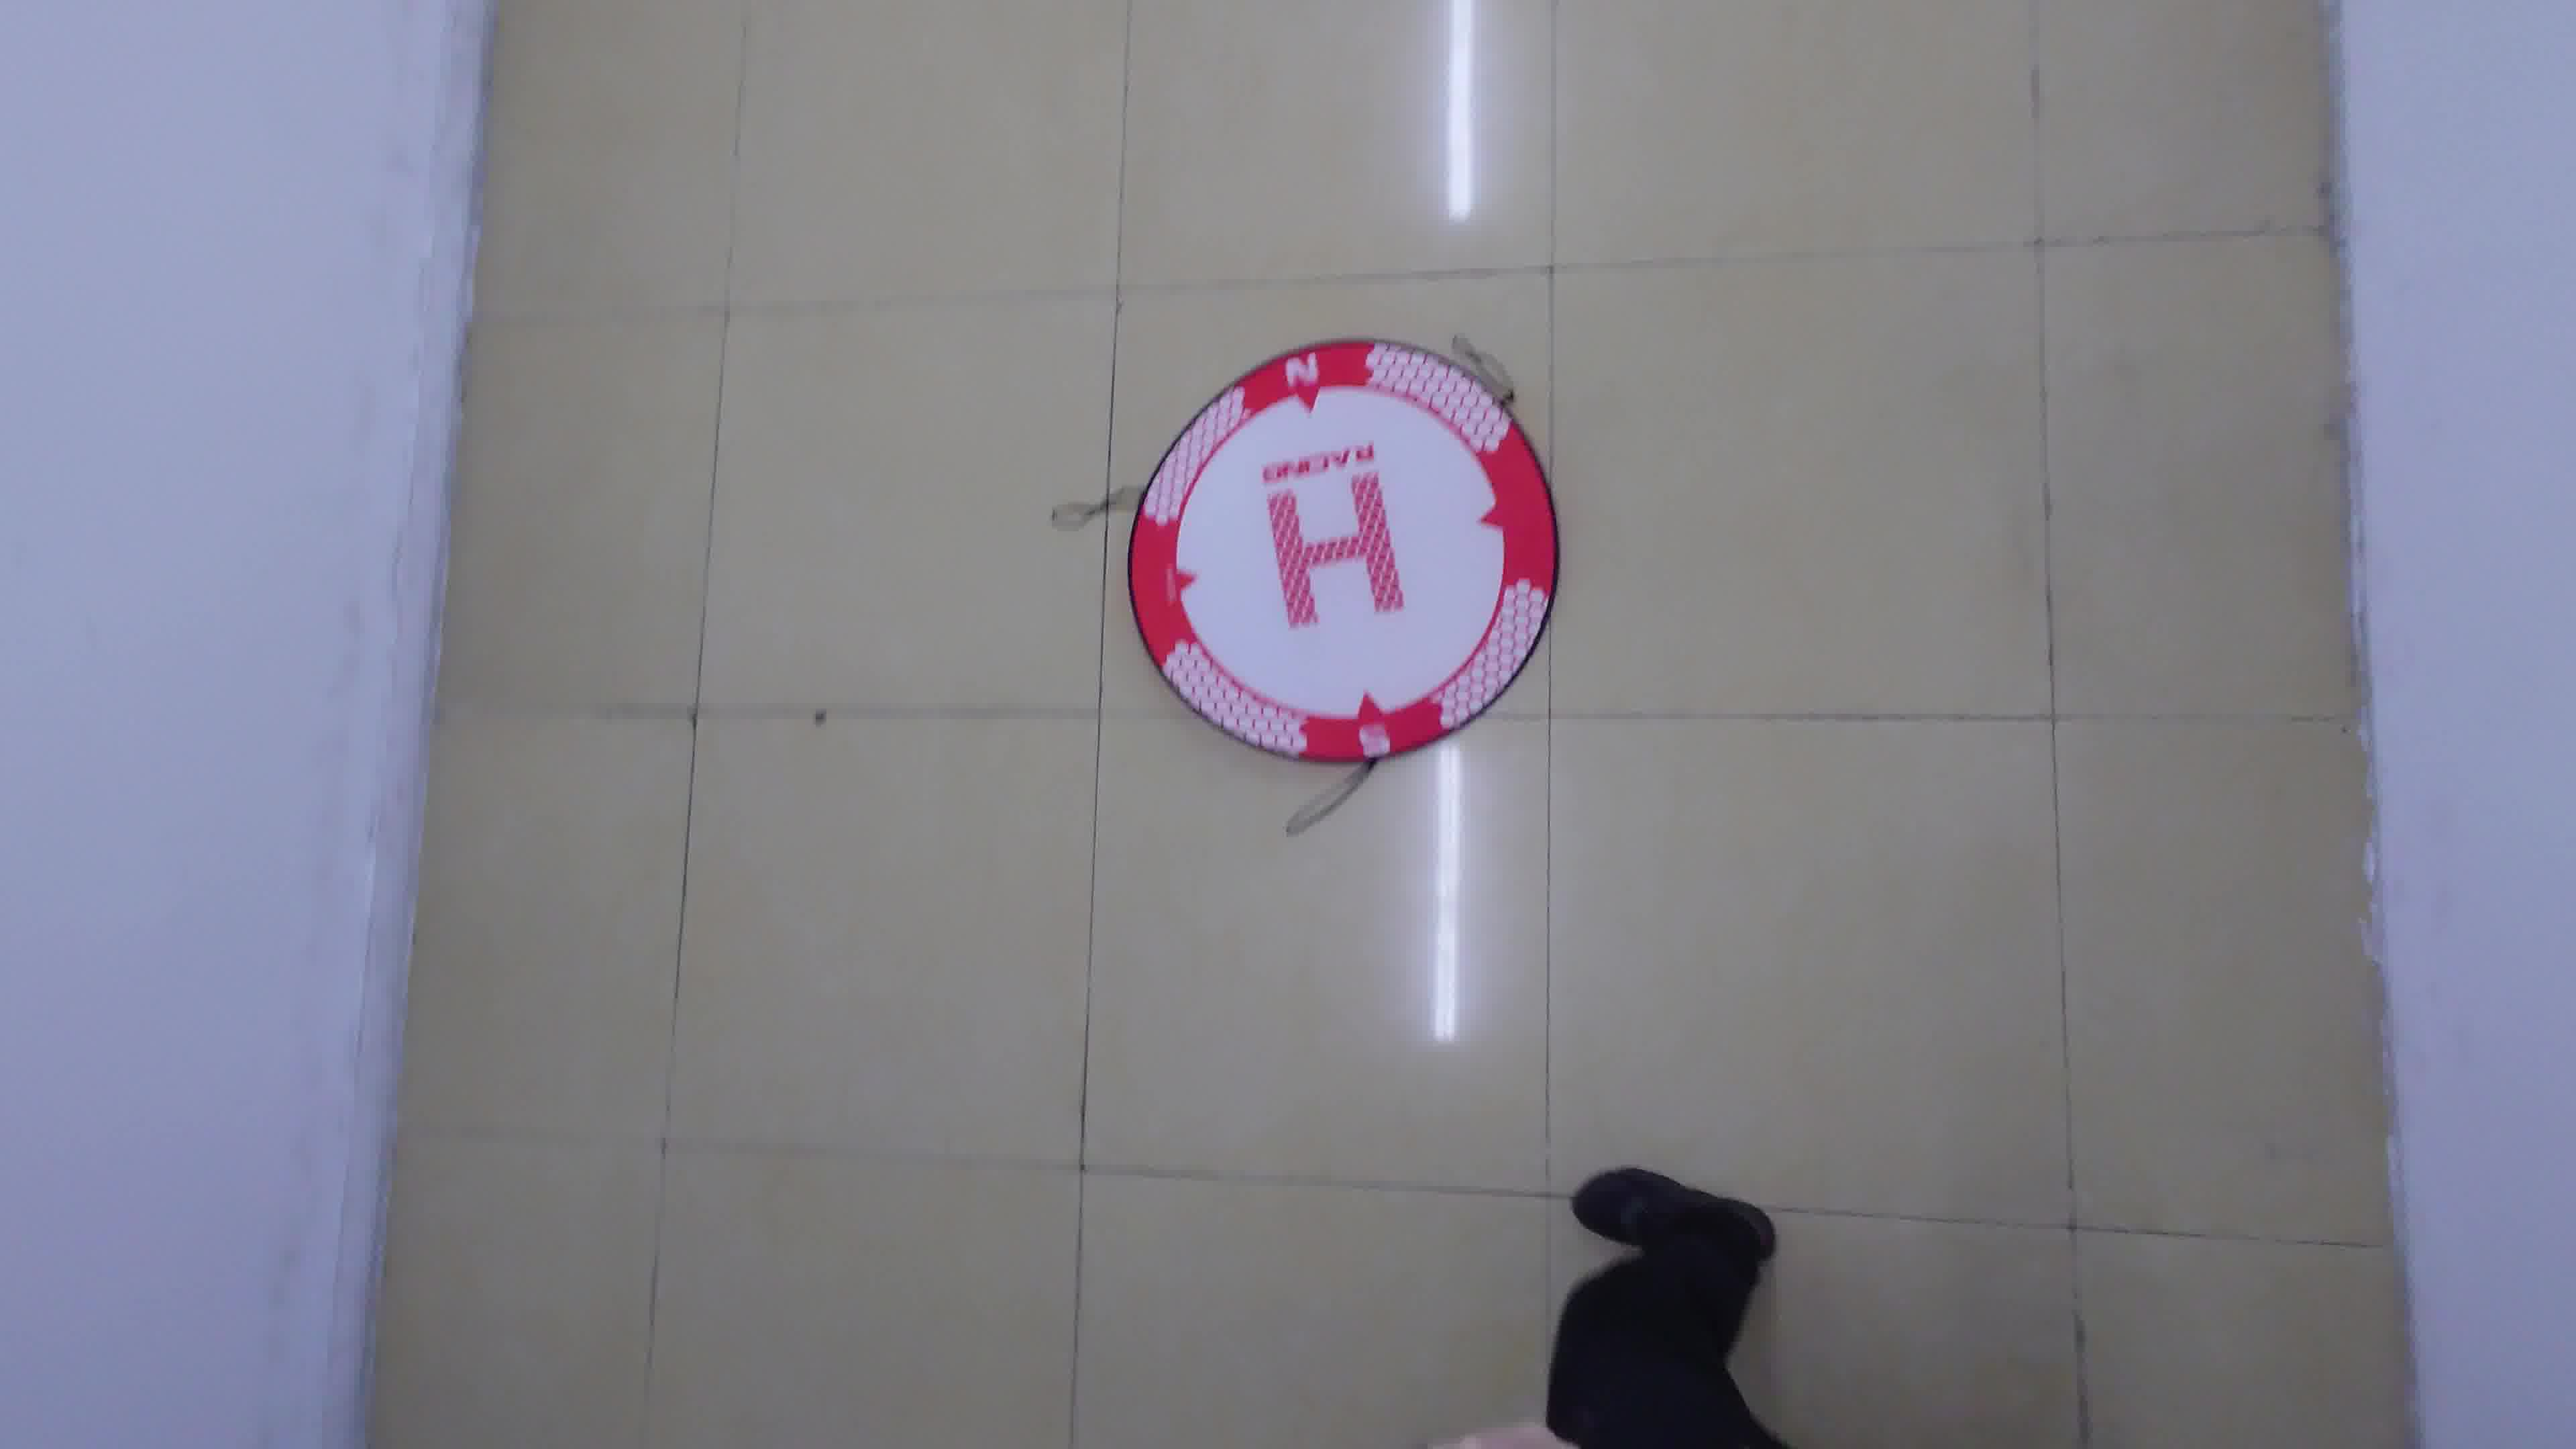H: (1265, 472, 1407, 628)
